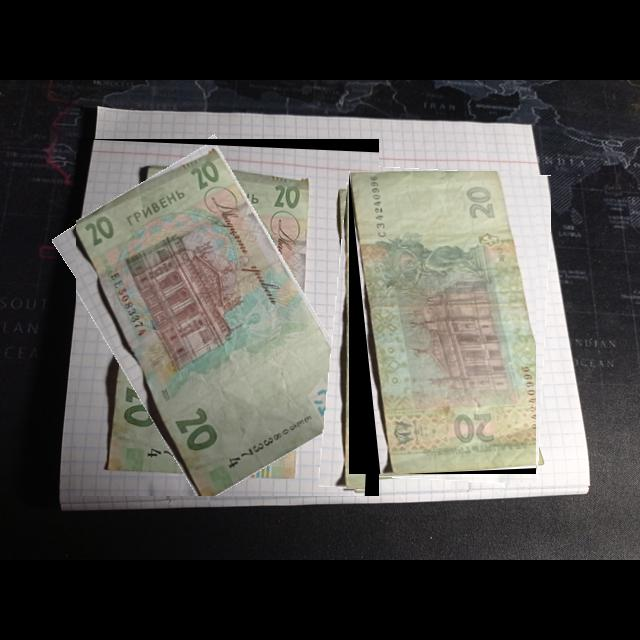20uah: (76, 144, 372, 497), (350, 171, 537, 475)
